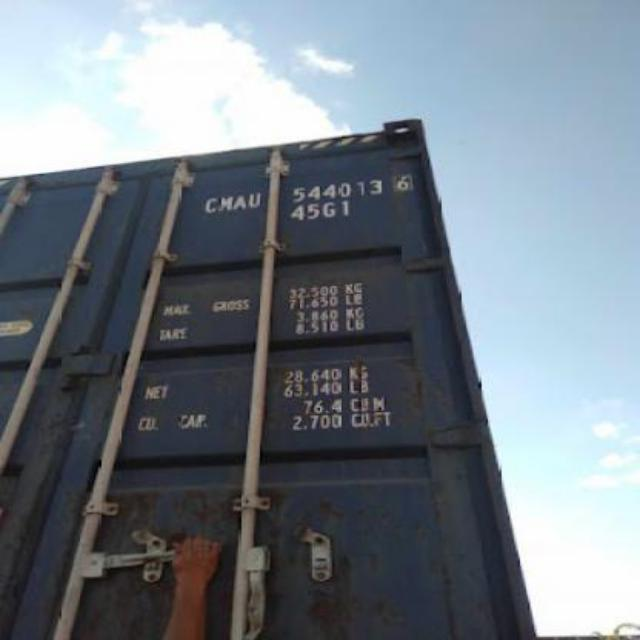0: (334, 177, 350, 200)
1: (350, 174, 366, 200)
3: (368, 172, 380, 200)
4: (304, 178, 320, 202), (322, 177, 334, 201)
5: (290, 182, 306, 202)
6: (390, 168, 418, 196)
A: (234, 191, 246, 209)
C: (202, 192, 215, 216)
M: (217, 192, 233, 218)
U: (247, 188, 260, 216)
